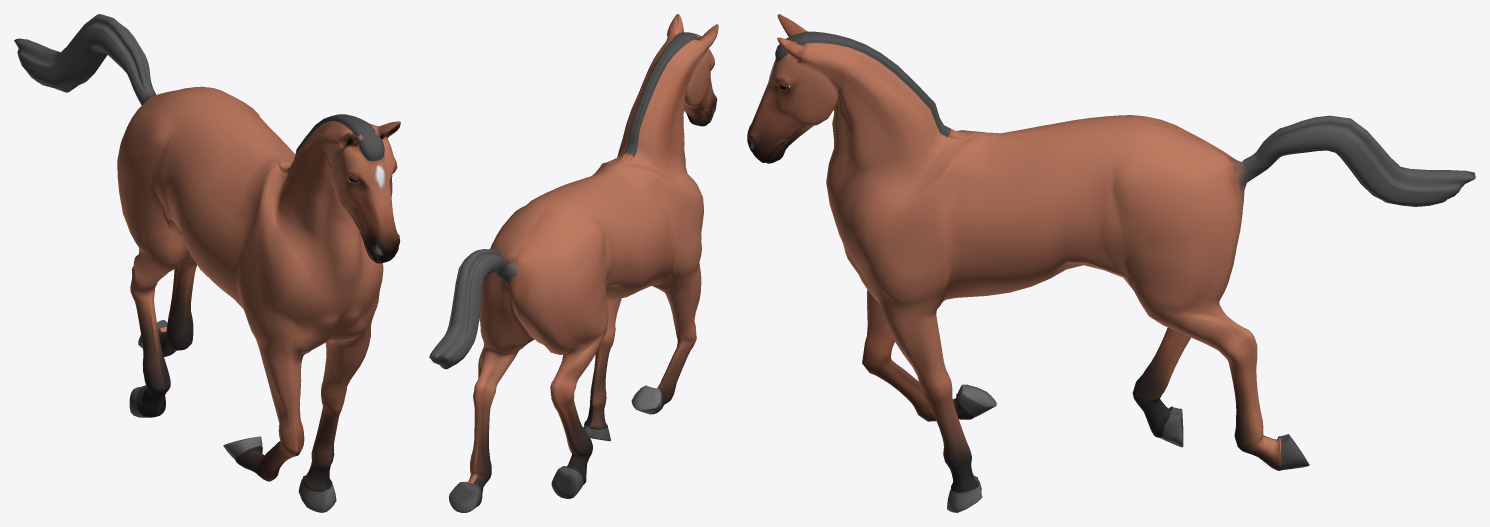
Rendered from horse_obj_15.obj.
The picture shows the model from 3 angles, left to right: view 1: azimuth 30°, elevation 25°; view 2: azimuth 150°, elevation 25°; view 3: azimuth 270°, elevation 25°; orthographic projection. The views are drawn at different scales.
Parts seen in each view (by area): view 1: Figure_1; view 2: Figure_1; view 3: Figure_1.
Part boxes in pixels (left/top/right/bottom): Figure_1: left=14, top=14, right=400, bottom=512; Figure_1: left=429, top=14, right=718, bottom=512; Figure_1: left=747, top=14, right=1475, bottom=512.
Bounding box in the file's own units: 0.2421 × 0.8313 × 1.17.
7 materials, 7 textured.
